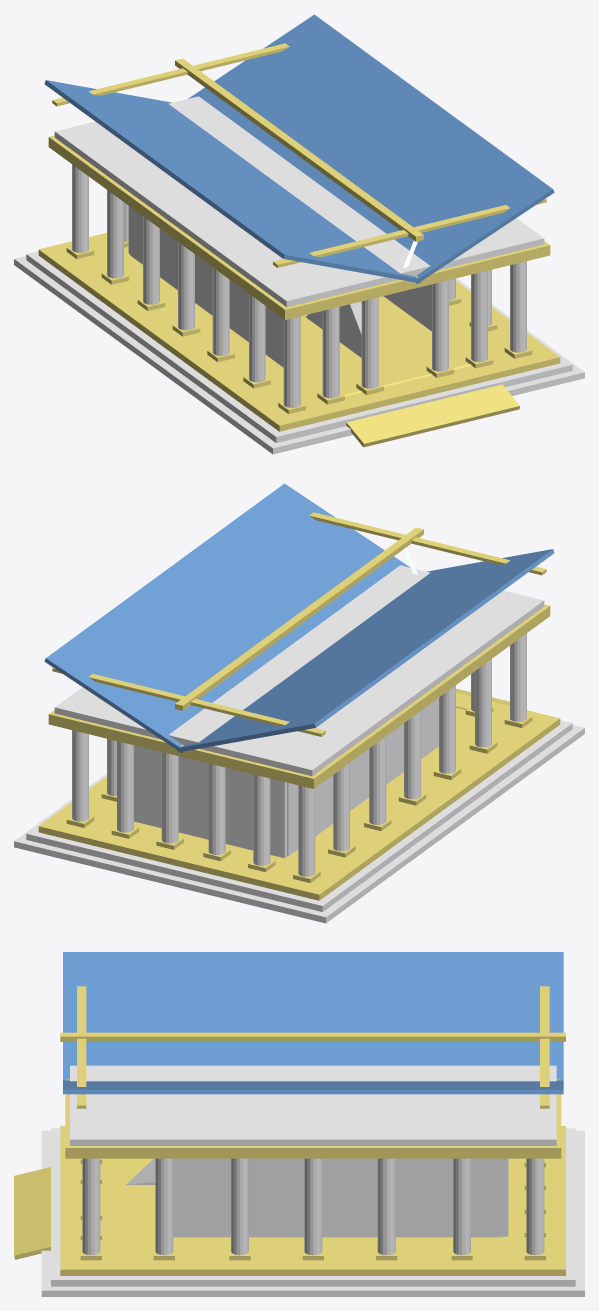
Rendered from temple_zeus.glb.
3 renders of one model, top to bottom at view 1: azimuth 30°, elevation 25°; view 2: azimuth 150°, elevation 25°; view 3: azimuth 270°, elevation 25°, orthographic. The views are drawn at different scales.
Parts seen in each view (by area): view 1: Temple_Zeus; view 2: Temple_Zeus; view 3: Temple_Zeus.
Boxes of the visible parts, box(x1,y1,x2,y2) form: Temple_Zeus: box(14, 14, 584, 454); Temple_Zeus: box(14, 483, 584, 923); Temple_Zeus: box(14, 952, 584, 1296).
Size of the model in its own units: 16 by 9.3 by 24.17.
